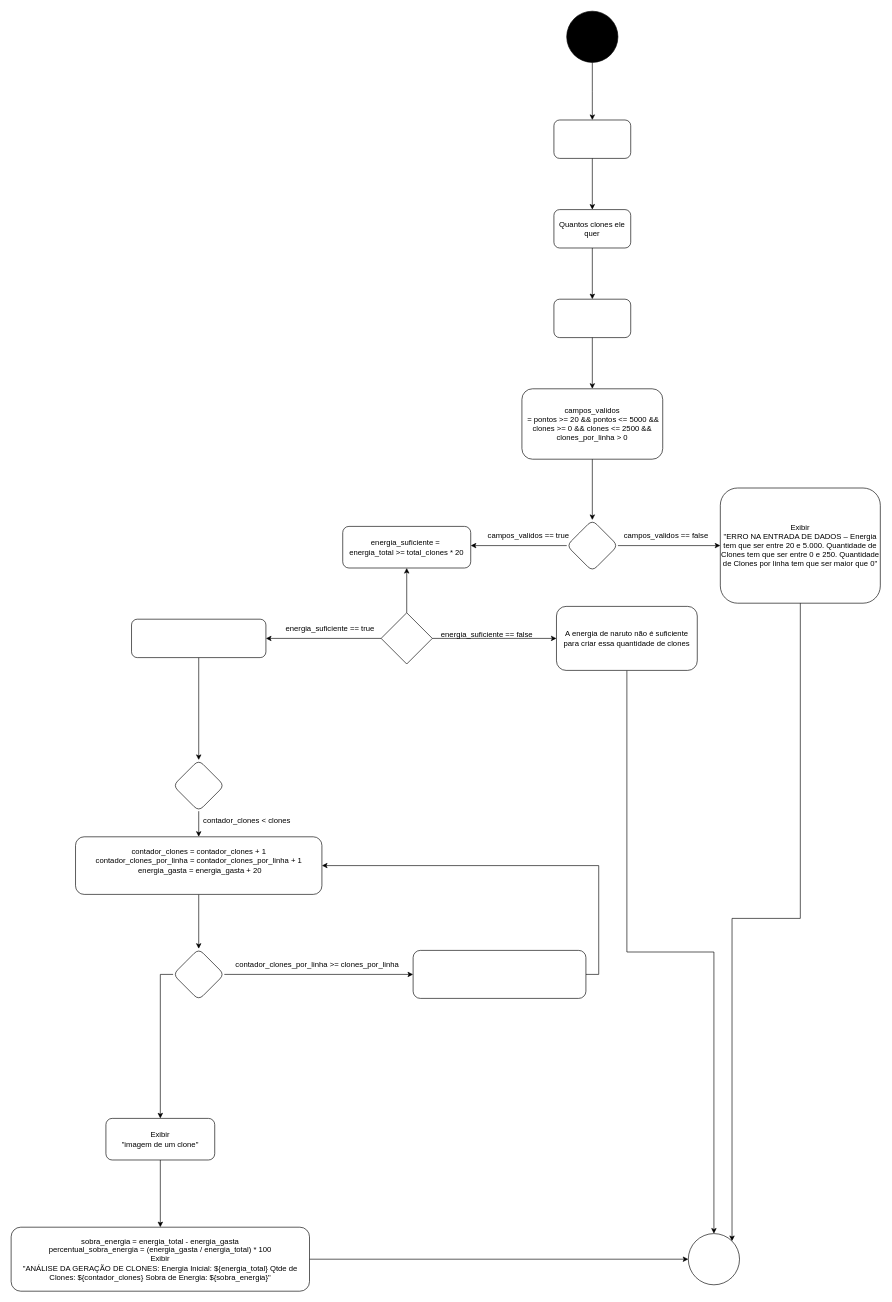
This 892x1302 diagram has some shape labels left out. The centre of each missing label's shape, as x and y in pixels:
"contador_clones = 0 contador_clones_por_linha = 0" goes at (x=198, y=638).
"contador_clones_por_linha = 0 e insira a próxima imagem na próxima linha" goes at (x=499, y=974).
"Digite a quantidade de pontos que Naruto tem" goes at (x=592, y=138).
"Quantos clones_por_linha" goes at (x=592, y=318).
